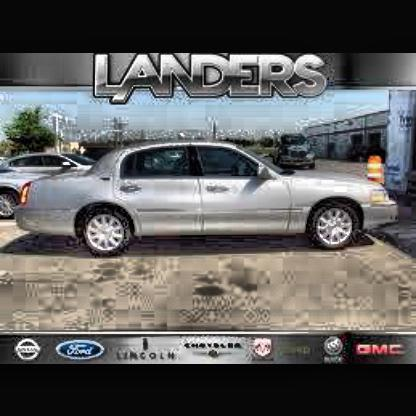Lincoln Town Car Sedan 2011: (3, 114, 404, 269)
